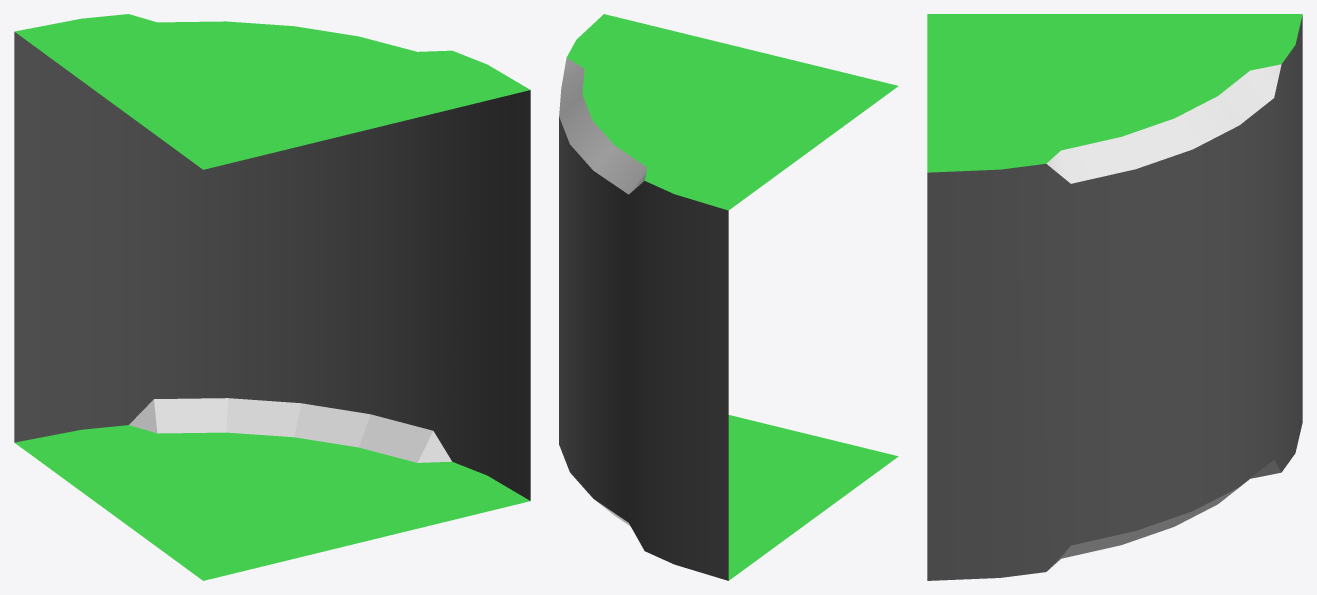
The model's file is WallRound_Fake_2.5x2.5.fbx.
The picture shows the model from 3 angles, left to right: view 1: azimuth 30°, elevation 25°; view 2: azimuth 150°, elevation 25°; view 3: azimuth 270°, elevation 25°; orthographic projection. The views are drawn at different scales.
Visible parts, largest first — view 1: WallRound_Fake_2.5x2.5; view 2: WallRound_Fake_2.5x2.5; view 3: WallRound_Fake_2.5x2.5.
Part boxes in pixels (x1,y1,x2,y2): WallRound_Fake_2.5x2.5: (14, 14, 530, 580); WallRound_Fake_2.5x2.5: (559, 14, 898, 580); WallRound_Fake_2.5x2.5: (927, 14, 1302, 580).
Bounding box in the file's own units: 250 × 300 × 250.
